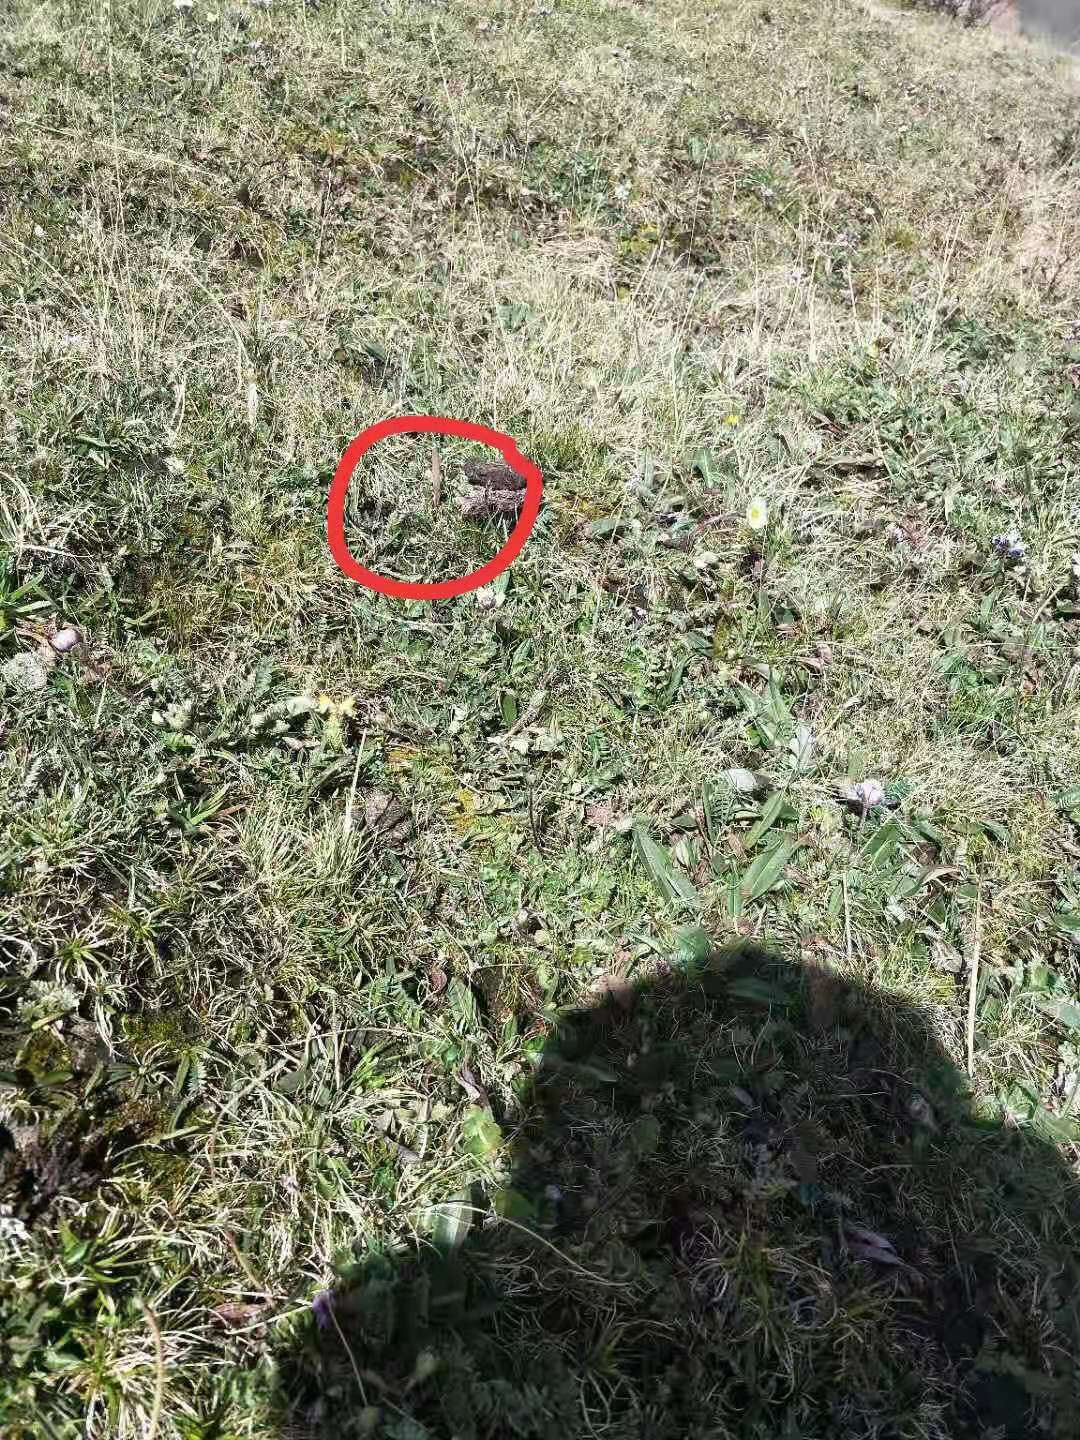Chongcao: (431, 448, 444, 506)
